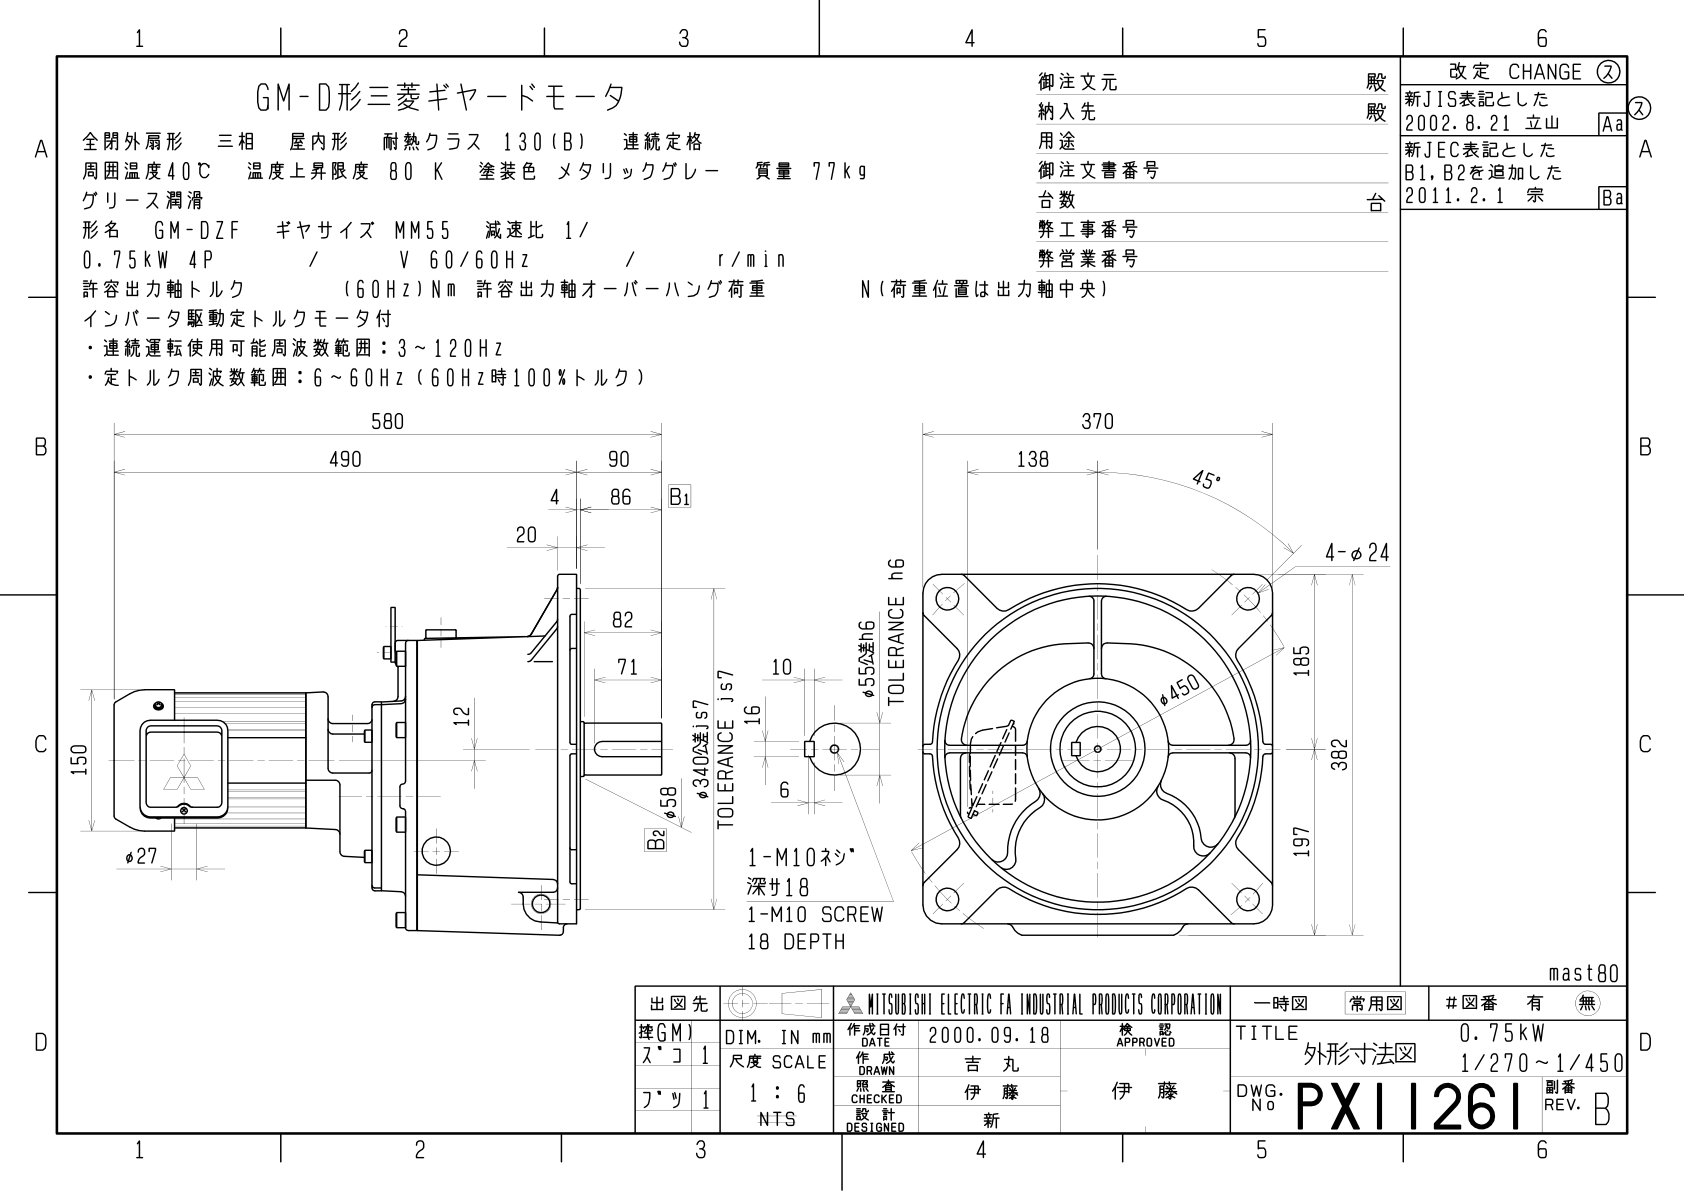GM_D_インバータ屋内_三相_フランジ: (4, 3, 1669, 1186)
